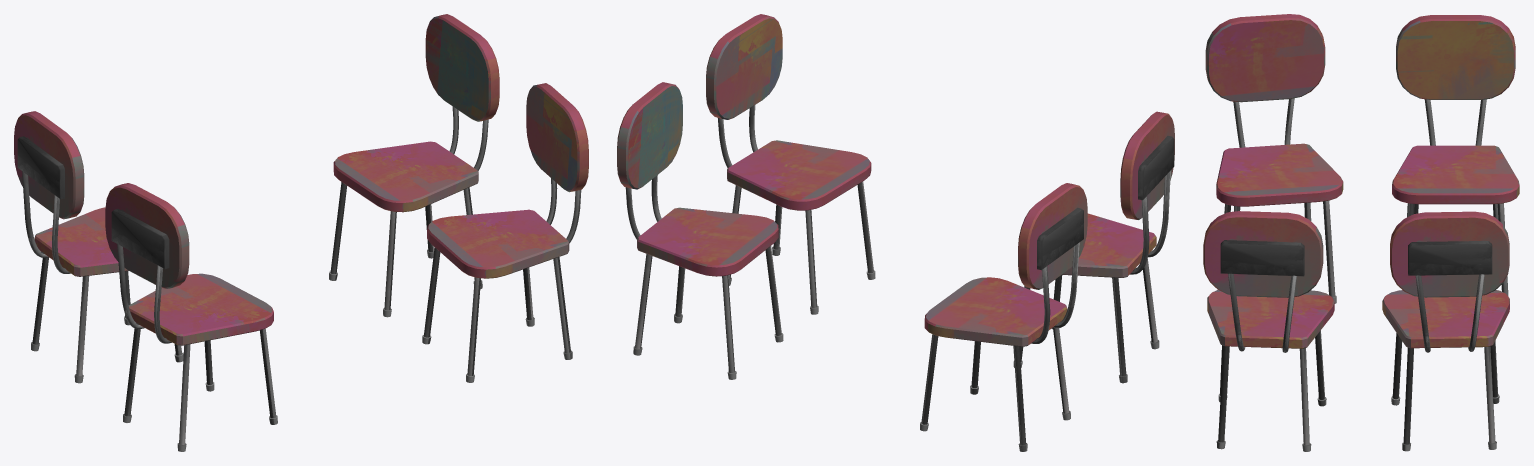
Rendered from DiningChairs-M00B.fbx.
3 views of the same model, side by side, from view 1: azimuth 30°, elevation 25°; view 2: azimuth 150°, elevation 25°; view 3: azimuth 270°, elevation 25° (orthographic).
Visible parts, largest first — view 1: DiningChairs-S00B; view 2: DiningChairs-S00B; view 3: DiningChairs-S00B.
Part boxes in pixels (box(x1,y1,x2,y2)): DiningChairs-S00B: box(14, 14, 588, 451); DiningChairs-S00B: box(617, 14, 1174, 451); DiningChairs-S00B: box(1203, 14, 1519, 451).
Size of the model in its own units: 265 by 141 by 169.
